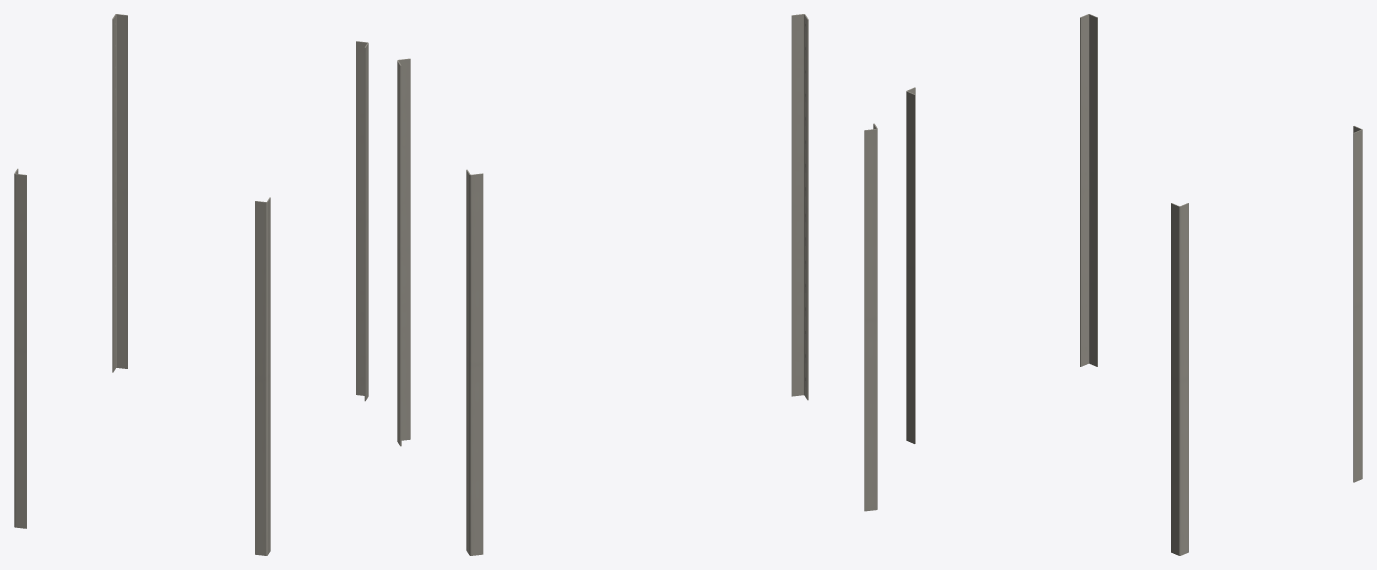
The model's file is shelf_0301_t50_h600_w600.glb.
3 views of the same model, side by side, from view 1: azimuth 30°, elevation 25°; view 2: azimuth 150°, elevation 25°; view 3: azimuth 270°, elevation 25° (orthographic). The views are drawn at different scales.
Visible parts, largest first — view 1: shelf_0301_t50_h600_w600; view 2: shelf_0301_t50_h600_w600; view 3: shelf_0301_t50_h600_w600.
Boxes of the visible parts, x1,y1,x2,y2 form: shelf_0301_t50_h600_w600: (14,14,368,555); shelf_0301_t50_h600_w600: (397,14,877,555); shelf_0301_t50_h600_w600: (906,14,1362,555).
Bounding box in the file's own units: 0.7101 × 0.6 × 0.7101.
1 material, 1 textured.
